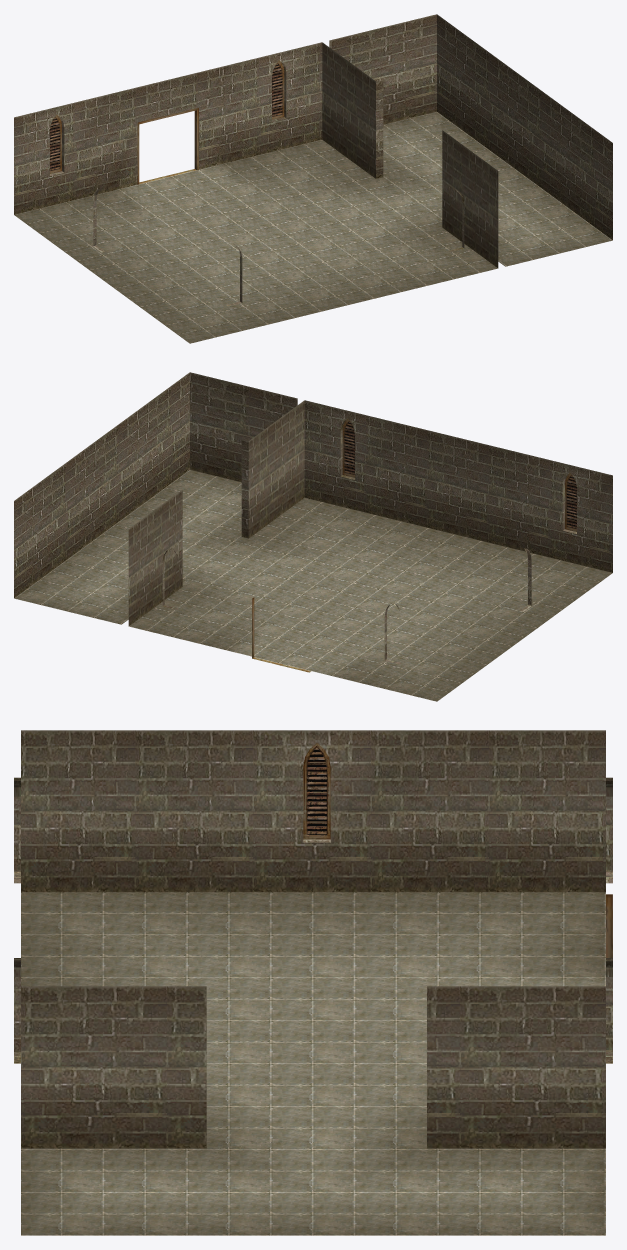
Rendered from M5Z1_VillageInt_01.glb.
3 views of the same model, one above another, from view 1: azimuth 30°, elevation 25°; view 2: azimuth 150°, elevation 25°; view 3: azimuth 270°, elevation 25° (orthographic). The views are drawn at different scales.
Parts seen in each view (by area): view 1: M5Z1_VILLAGEINT_01; view 2: M5Z1_VILLAGEINT_01; view 3: M5Z1_VILLAGEINT_01.
Part boxes in pixels (bbox=[...]): M5Z1_VILLAGEINT_01: bbox=[14, 14, 612, 343]; M5Z1_VILLAGEINT_01: bbox=[14, 372, 612, 701]; M5Z1_VILLAGEINT_01: bbox=[14, 730, 612, 1235].
Size of the model in its own units: 14.88 by 3.25 by 10.88.
Materials: 7 (7 with a texture image).
